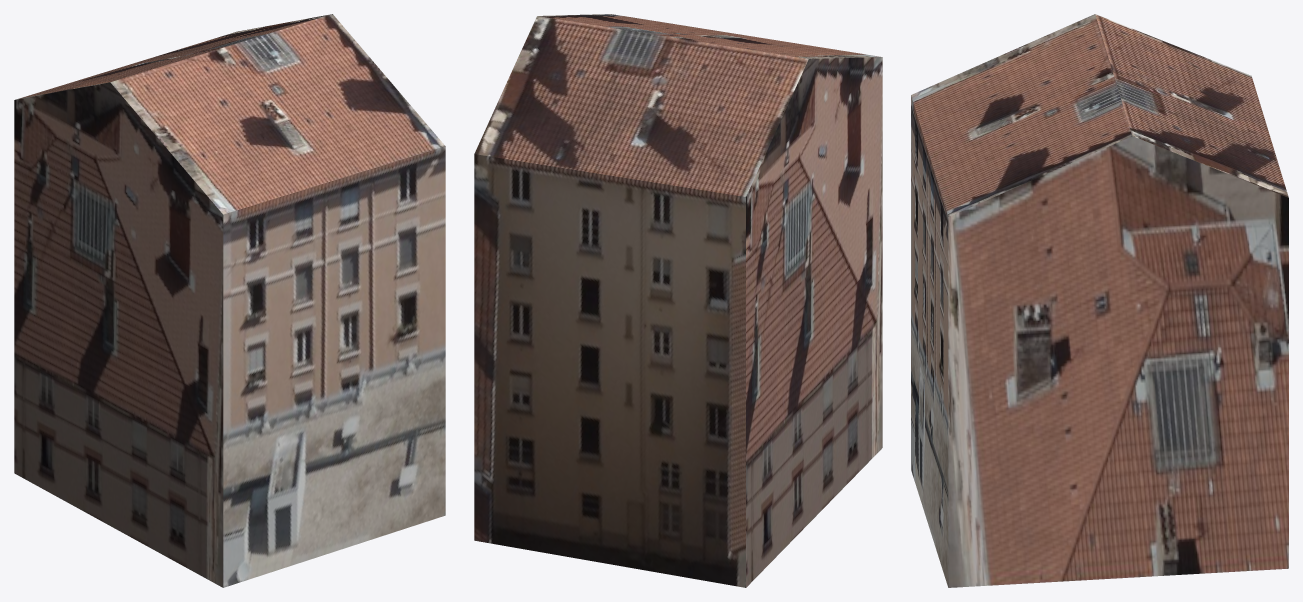
The picture shows the model from 3 angles, left to right: view 1: azimuth 30°, elevation 25°; view 2: azimuth 150°, elevation 25°; view 3: azimuth 270°, elevation 25°; orthographic projection. The views are drawn at different scales.
Visible parts, largest first — view 1: Z_UP; view 2: Z_UP; view 3: Z_UP.
Part boxes in pixels (x1,y1,x2,y2): Z_UP: [14, 14, 445, 587]; Z_UP: [474, 14, 882, 587]; Z_UP: [911, 14, 1288, 587].
Bounding box in the file's own units: 15.36 × 23.24 × 17.87.
Materials: 2 (1 with a texture image).
